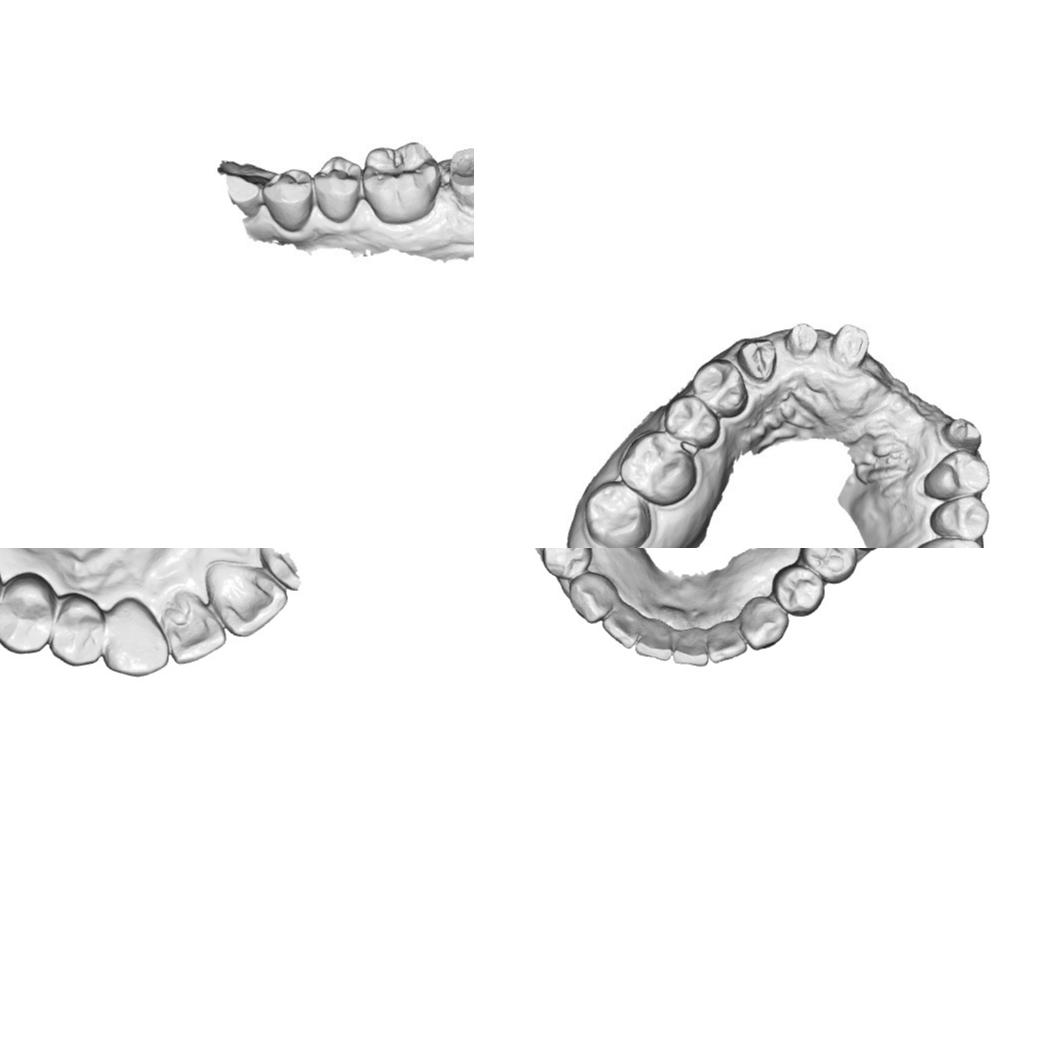canine: (102, 599, 171, 678), (736, 594, 788, 650), (568, 571, 618, 624)
crown: (442, 140, 474, 215), (740, 330, 779, 389), (831, 326, 868, 371), (941, 412, 985, 449), (786, 321, 818, 356)
incisor: (202, 560, 289, 639), (165, 596, 227, 665), (601, 603, 642, 650), (634, 618, 676, 661), (707, 621, 747, 664), (672, 626, 708, 668)
molar: (364, 143, 440, 226), (586, 483, 655, 548), (622, 434, 694, 496)
premolar: (0, 571, 58, 656), (49, 594, 106, 667), (259, 171, 318, 230), (312, 154, 363, 222), (770, 563, 825, 617), (694, 360, 748, 411), (665, 397, 713, 446), (930, 452, 986, 492), (798, 548, 857, 584), (934, 497, 984, 538), (541, 548, 592, 580)
